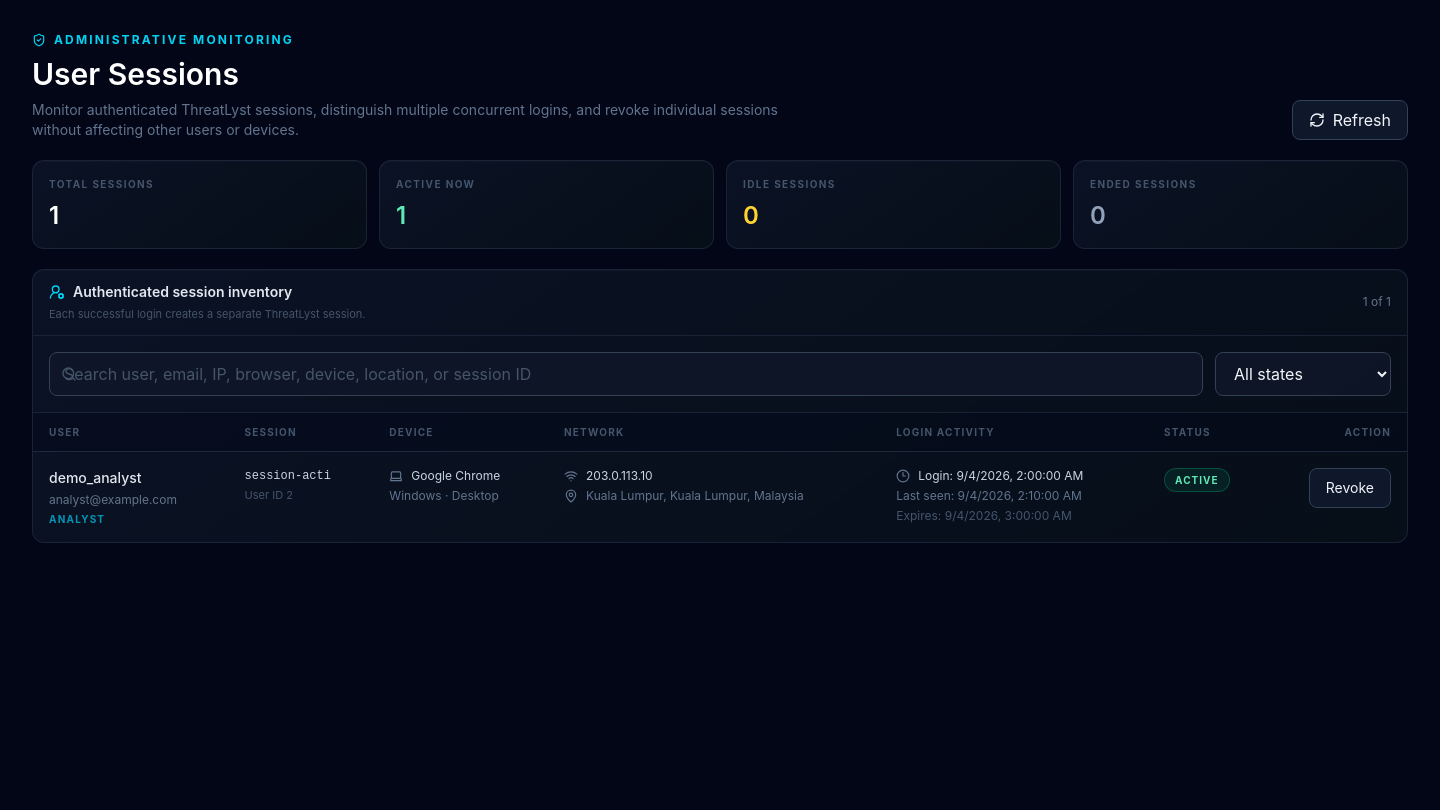
Scenario: UserSessionsPage › revokes an active session after confirmation
The image size is (1440, 810).
Click the button "Revoke".
click(1350, 488)  # box [1309, 468, 1391, 508]
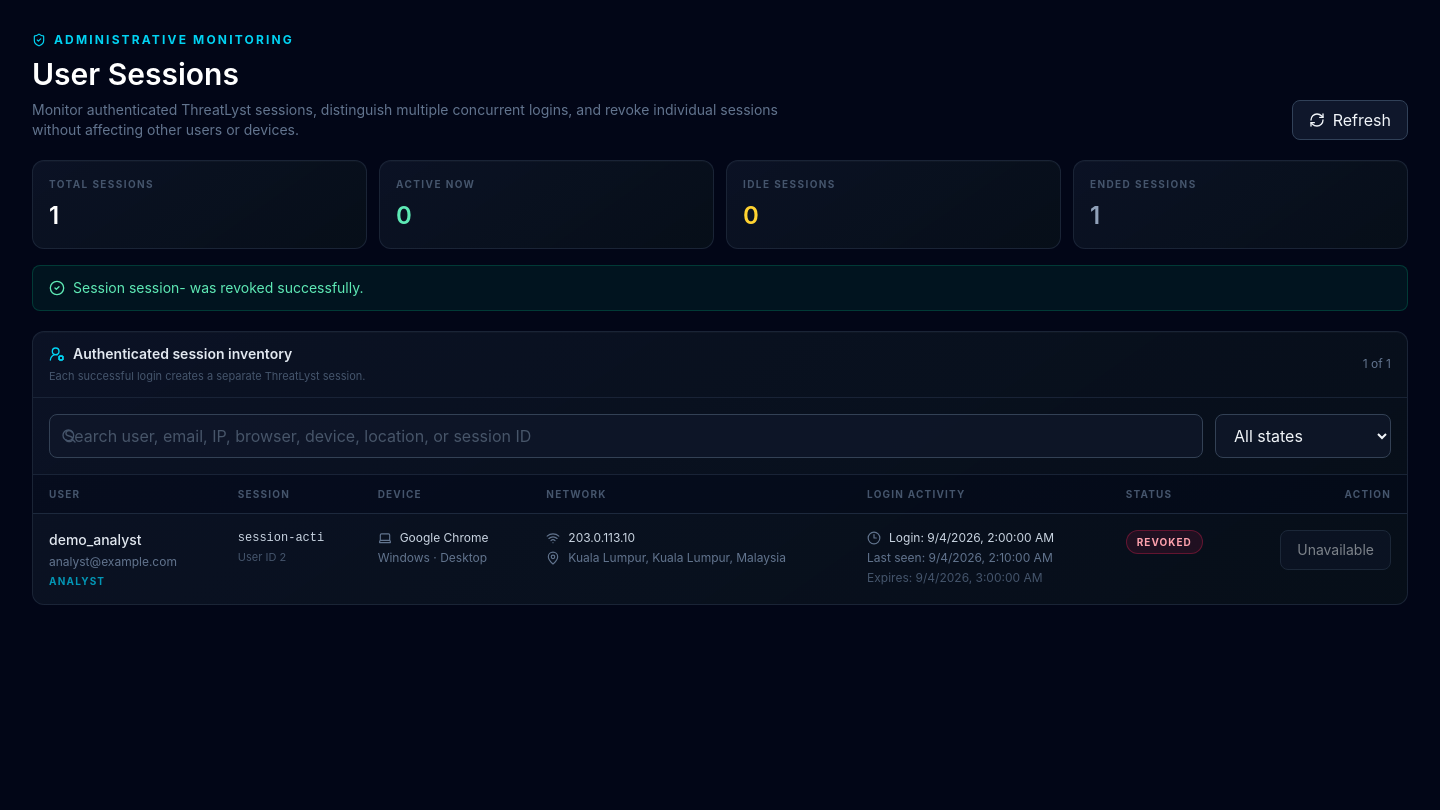
Expected: the message shows "session-", [129, 279, 186, 296]
Expected: the text "revoked" is shown, [1126, 530, 1203, 554]
